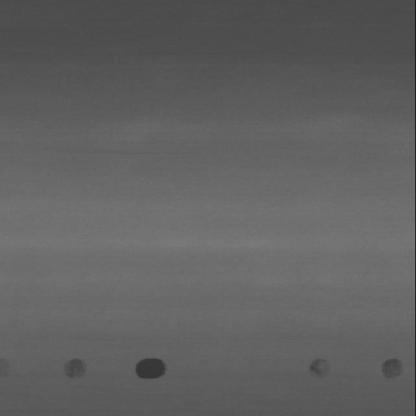oil_spot: (134, 356, 172, 383), (300, 358, 338, 381), (377, 356, 405, 382), (63, 357, 87, 381)
